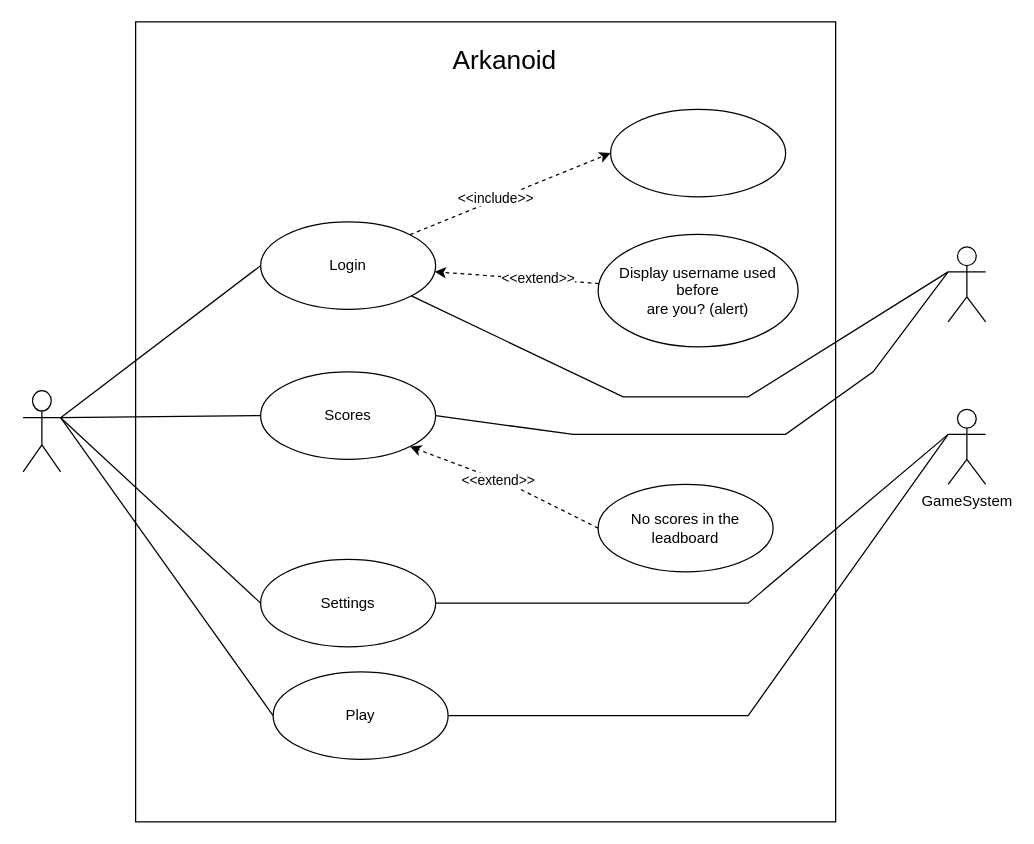
Image size: 1034x844. Some labels were removed from this diagram. Each missing label, with the box of its shape:
ConnectioBD: (947, 246, 986, 322)
USER: (22, 389, 61, 472)
VerifyUser: (609, 108, 786, 197)
